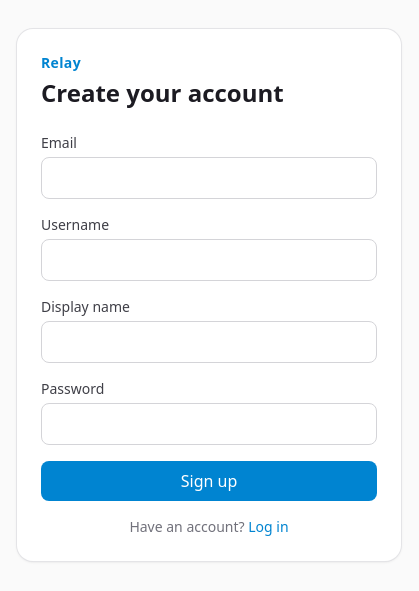
Test: auth pages › signup shows each field error next to its field
The image size is (419, 591).
Type "alice" into the field labelled "Username".
click(209, 260); type("alice")  # box [41,239,377,281]
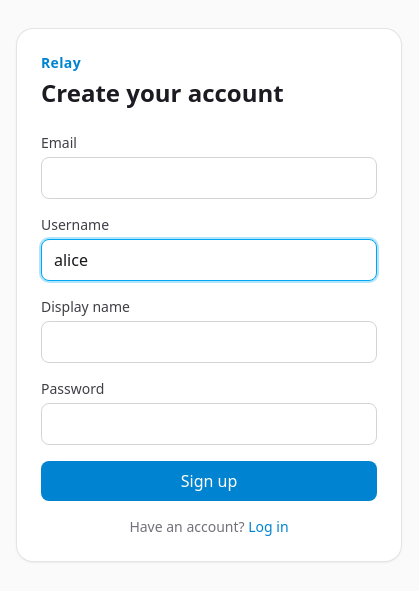
Click the button "Sign up".
click(209, 481)  # box [41,461,377,501]
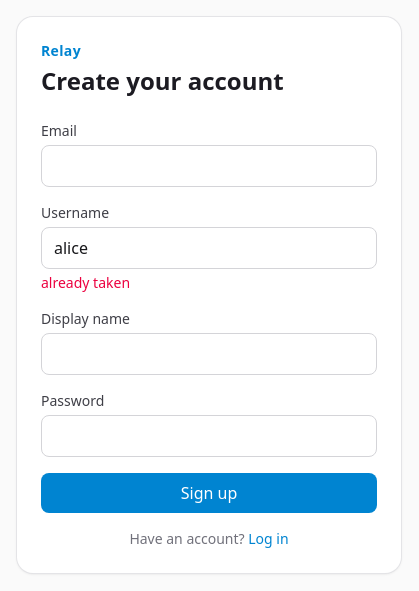
Check: the text "already taken" is shown, box [41,273,130,292]
